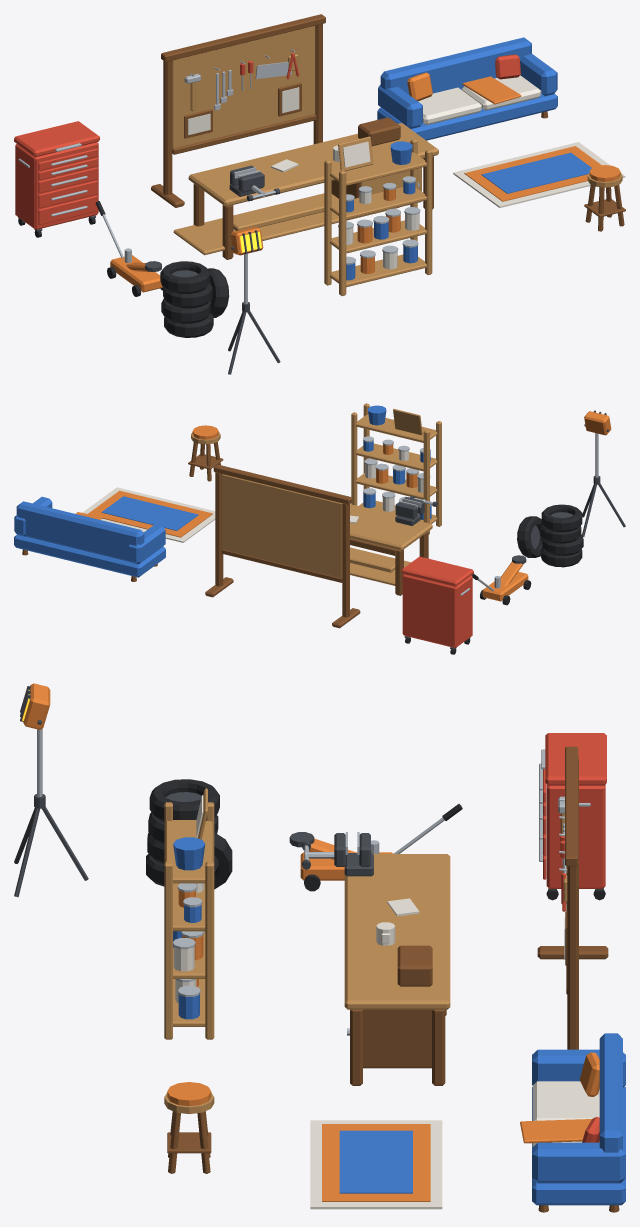
The model's file is cosy-garage-workshop.glb.
3 renders of one model, top to bottom at view 1: azimuth 30°, elevation 25°; view 2: azimuth 150°, elevation 25°; view 3: azimuth 270°, elevation 25°, orthographic. The views are drawn at different scales.
Parts seen in each view (by area): view 1: Pegboard_Board, Workbench_Top, Sofa_Back, Workbench_Shelf, ToolChest_Body, Sofa_Base, Rug_Centre, Rug_Band, Pegboard_TopRail, ToolChest_Lid, Rug_Base, Sofa_SeatCushion0 (+30 smaller); view 2: Pegboard_Board, ToolChest_Body, Sofa_Back, Workbench_Top, Sofa_Base, Rug_Centre, Rug_Band, ToolChest_Lid, Pegboard_TopRail, Rug_Base, Pegboard_Post-1, Tyre3 (+20 smaller); view 3: Workbench_Top, Rug_Centre, ToolChest_Body, Workbench_Cabinet, Rug_Band, Sofa_Arm1, Rug_Base, Sofa_Back, ToolChest_Lid, Sofa_SeatCushion0, Sofa_Base, Pegboard_Post1 (+19 smaller).
Part boxes in pixels (x1,y1,x2,y2): Pegboard_Board: (172, 26, 315, 148); Workbench_Top: (188, 123, 438, 206); Sofa_Back: (380, 37, 531, 94); Workbench_Shelf: (173, 193, 399, 255); ToolChest_Body: (15, 142, 98, 229); Sofa_Base: (377, 94, 557, 140); Rug_Centre: (481, 152, 591, 193); Rug_Band: (464, 146, 601, 201); Pegboard_TopRail: (161, 14, 325, 61); ToolChest_Lid: (14, 121, 99, 157); Rug_Base: (453, 142, 625, 207); Sofa_SeatCushion0: (418, 87, 481, 125); Pegboard_Board: (222, 474, 342, 578); ToolChest_Body: (402, 574, 472, 647); Sofa_Back: (16, 501, 144, 561); Workbench_Top: (350, 504, 432, 550); Sofa_Base: (14, 535, 165, 577); Rug_Centre: (101, 496, 198, 530); Rug_Band: (88, 490, 212, 537); ToolChest_Lid: (401, 556, 473, 586); Pegboard_TopRail: (213, 464, 352, 504); Rug_Base: (82, 487, 215, 542); Pegboard_Post-1: (342, 503, 349, 617); Tyre3: (541, 504, 582, 532); Workbench_Top: (344, 854, 450, 1009); Rug_Centre: (339, 1130, 412, 1193); ToolChest_Body: (546, 784, 605, 888); Workbench_Cabinet: (363, 1009, 431, 1068); Rug_Band: (322, 1124, 430, 1201); Sofa_Arm1: (532, 1142, 625, 1183); Rug_Base: (310, 1120, 442, 1209); Sofa_Back: (599, 1033, 622, 1152); ToolChest_Lid: (545, 733, 606, 785); Sofa_SeatCushion0: (532, 1081, 599, 1120); Sofa_Base: (532, 1086, 625, 1205); Pegboard_Post1: (567, 861, 578, 1049).
Size of the model in its own units: 29.04 by 7.77 by 20.84.
